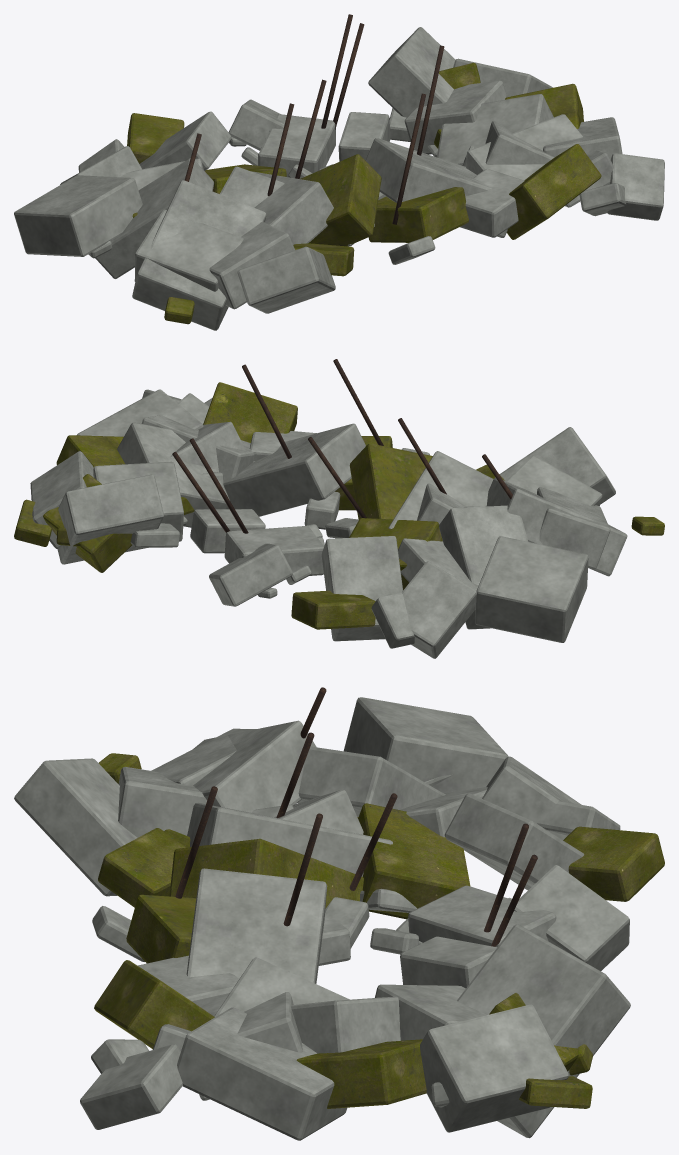
Rendered from f3_v3_rubble_bank.glb.
3 views of the same model, one above another, from view 1: azimuth 30°, elevation 25°; view 2: azimuth 150°, elevation 25°; view 3: azimuth 270°, elevation 25° (orthographic). The views are drawn at different scales.
Parts seen in each view (by area): view 1: f3_exposed_aggregate_surface, f3_damp_concrete_surface, f3_oxidized_iron_surface; view 2: f3_exposed_aggregate_surface, f3_damp_concrete_surface, f3_oxidized_iron_surface; view 3: f3_exposed_aggregate_surface, f3_damp_concrete_surface, f3_oxidized_iron_surface.
Boxes of the visible parts, x1,y1,x2,y2 form: f3_exposed_aggregate_surface: [14, 27, 664, 330]; f3_damp_concrete_surface: [127, 63, 601, 324]; f3_oxidized_iron_surface: [184, 14, 444, 224]; f3_exposed_aggregate_surface: [30, 389, 627, 658]; f3_damp_concrete_surface: [14, 382, 664, 629]; f3_oxidized_iron_surface: [172, 359, 512, 533]; f3_exposed_aggregate_surface: [14, 697, 630, 1140]; f3_damp_concrete_surface: [94, 753, 664, 1108]; f3_oxidized_iron_surface: [175, 687, 537, 946].
Size of the model in its own units: 4.33 by 1.32 by 3.12.
3 materials, 3 textured.
